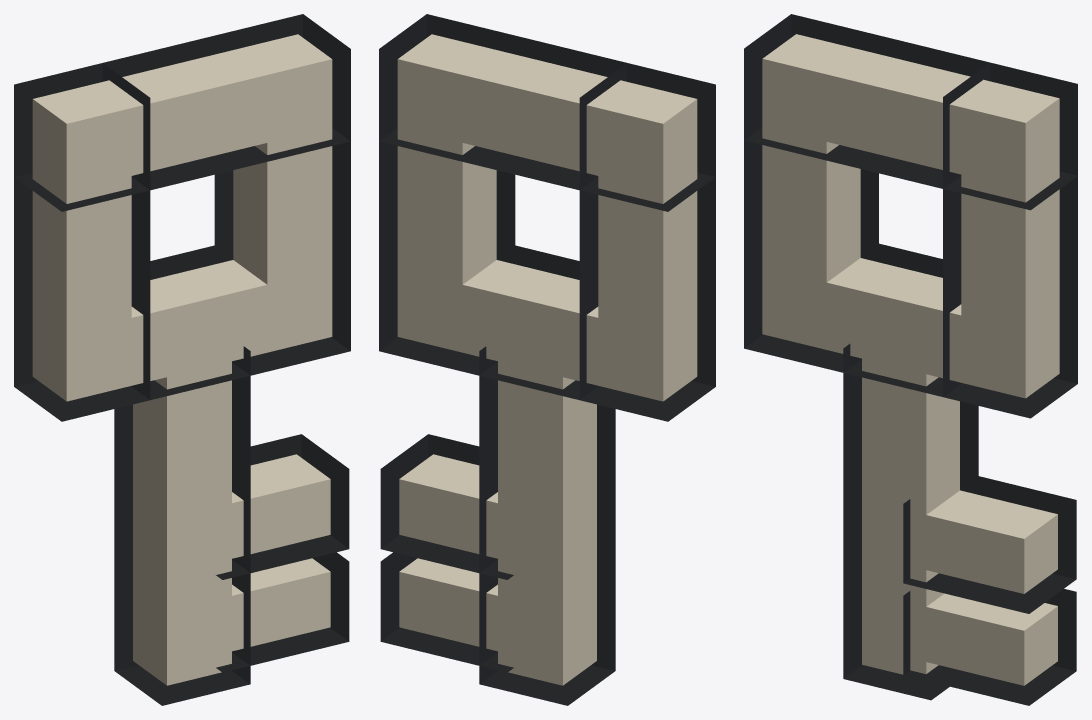
File: REF_PrintKey.glb
3 renders of one model, left to right at view 1: azimuth 30°, elevation 25°; view 2: azimuth 150°, elevation 25°; view 3: azimuth 330°, elevation 25°, orthographic.
Visible parts, largest first — view 1: REF_PrintKey, REF_PrintKey_Outline; view 2: REF_PrintKey, REF_PrintKey_Outline; view 3: REF_PrintKey, REF_PrintKey_Outline.
Boxes of the visible parts, x1,y1,x2,y2 form: REF_PrintKey: (32, 34, 332, 685); REF_PrintKey_Outline: (14, 14, 350, 705); REF_PrintKey: (397, 34, 697, 685); REF_PrintKey_Outline: (379, 14, 715, 705); REF_PrintKey: (762, 34, 1059, 685); REF_PrintKey_Outline: (744, 14, 1077, 705).
Size of the model in its own units: 0.2058 by 0.4158 by 0.0588.
Materials: 2 (1 with a texture image).
